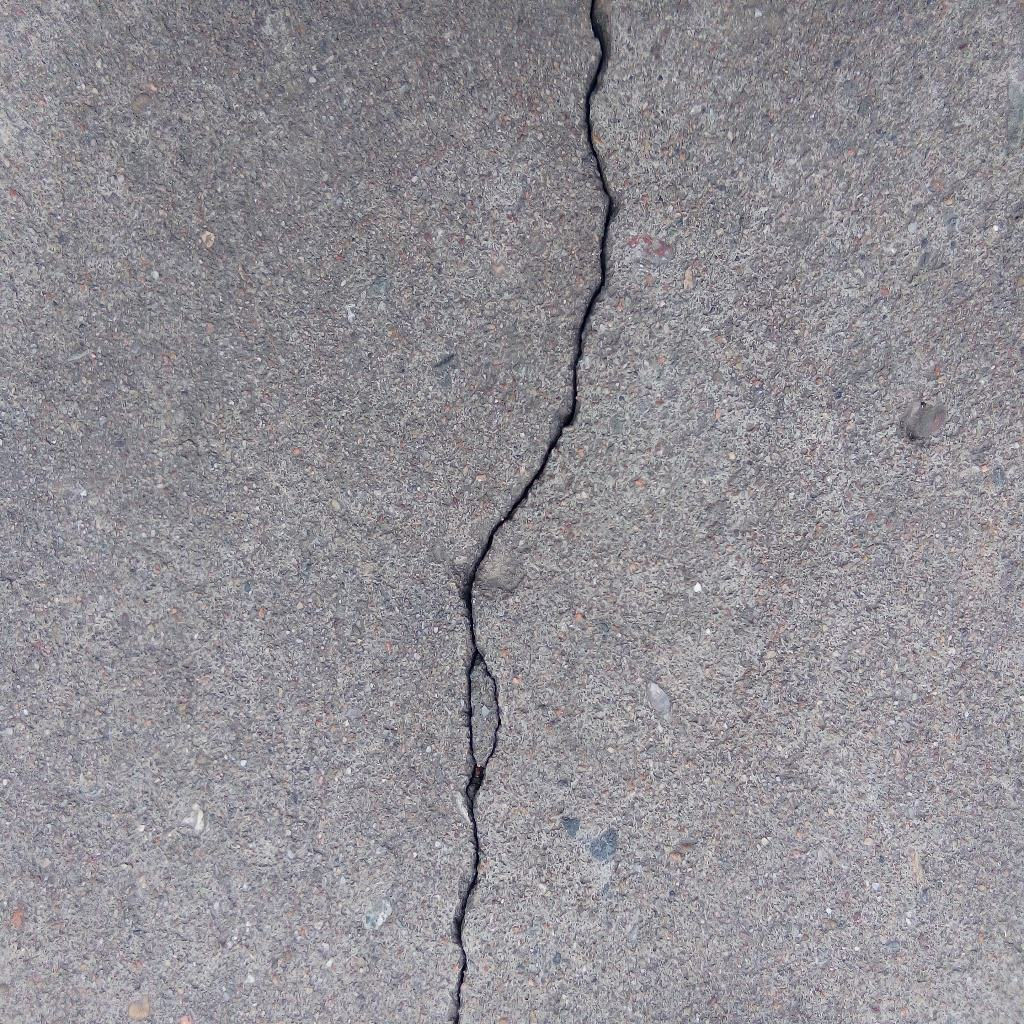Crack: (448, 1, 615, 1024)
